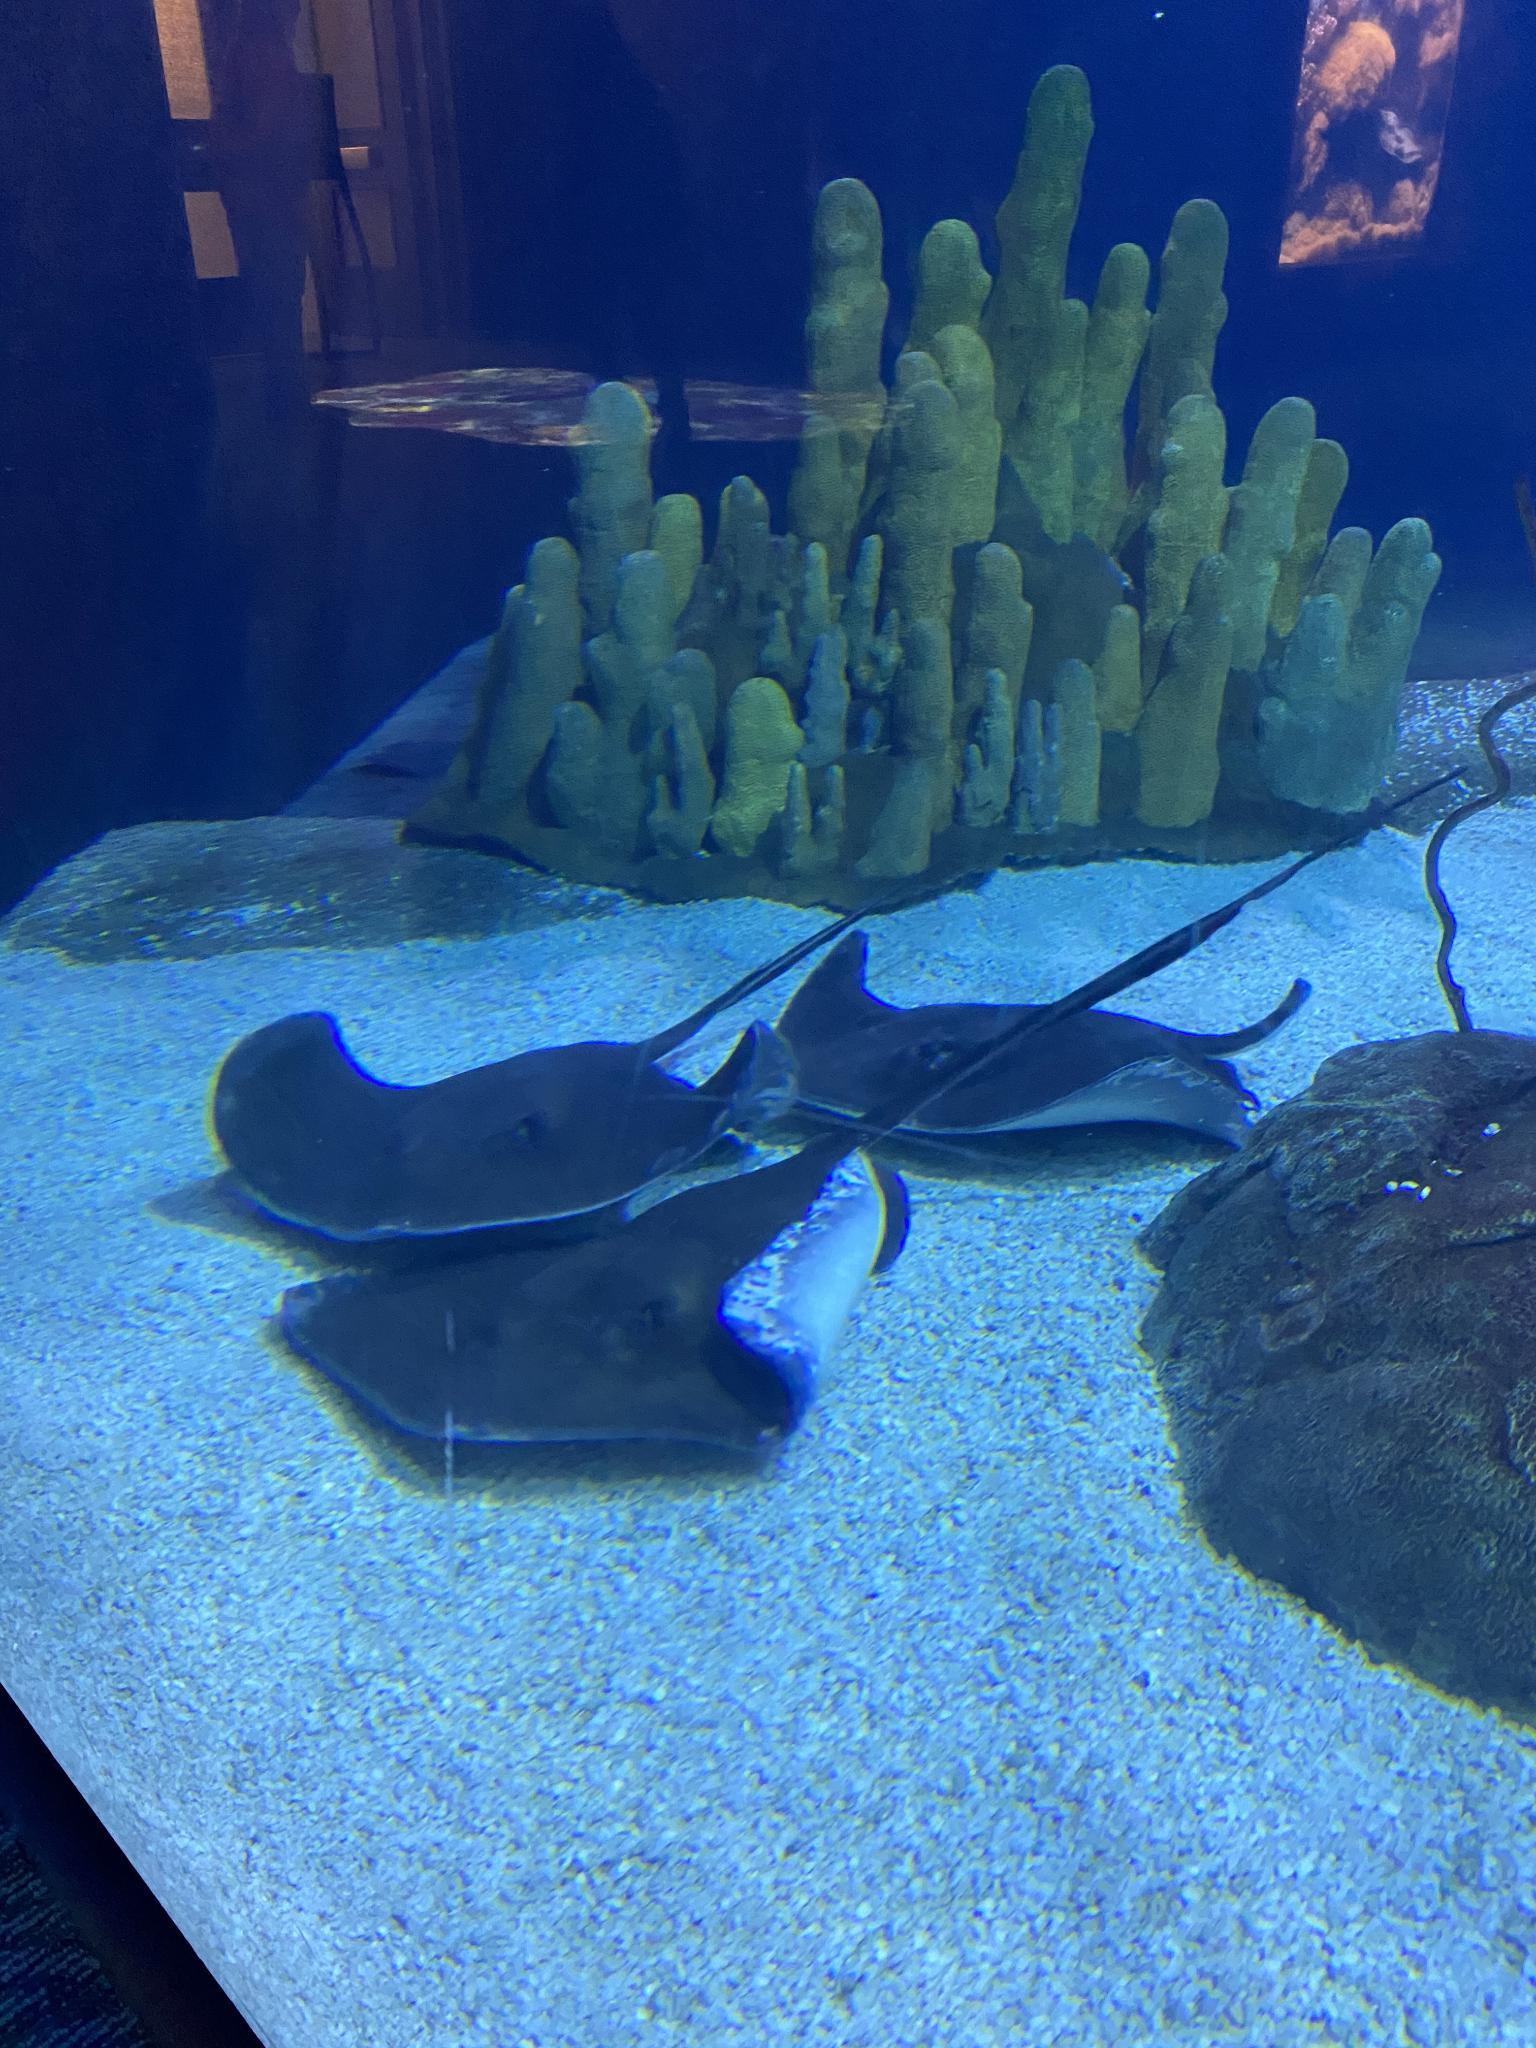stingray: (273, 1143, 900, 1451), (215, 1009, 741, 1240), (758, 927, 1263, 1148)
